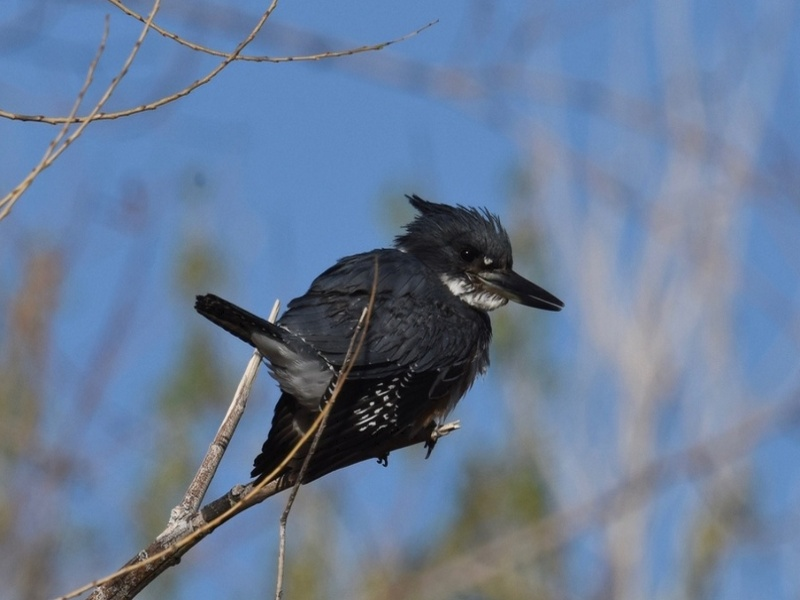kingfisher: (195, 191, 568, 489)
